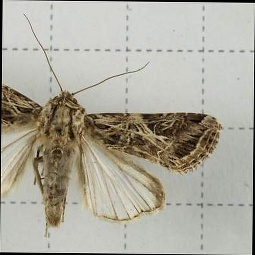Spodoptera litura: (1, 13, 224, 238)
